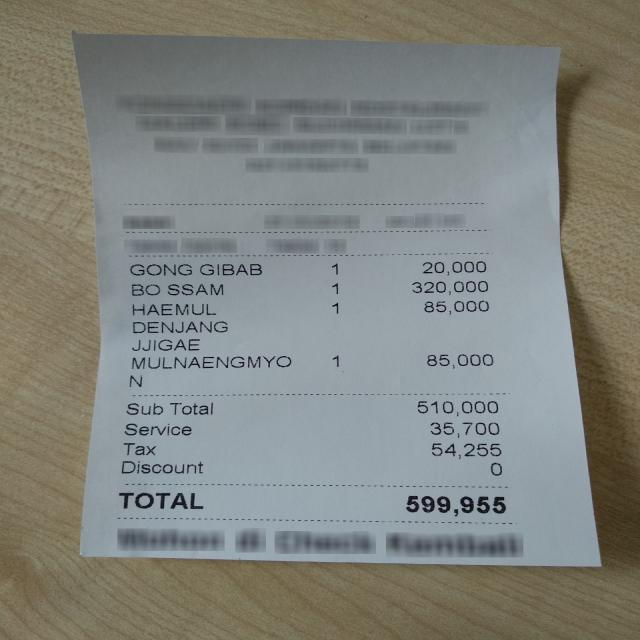kertas: (74, 26, 599, 573)
